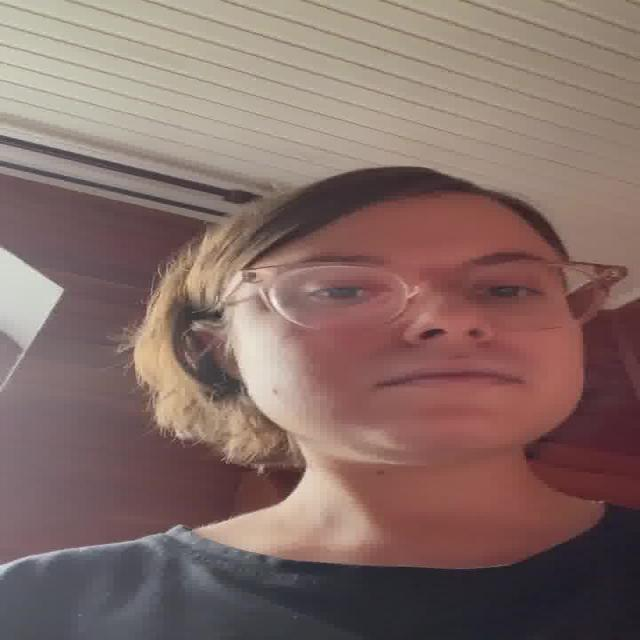earlobe: (188, 319, 244, 382)
